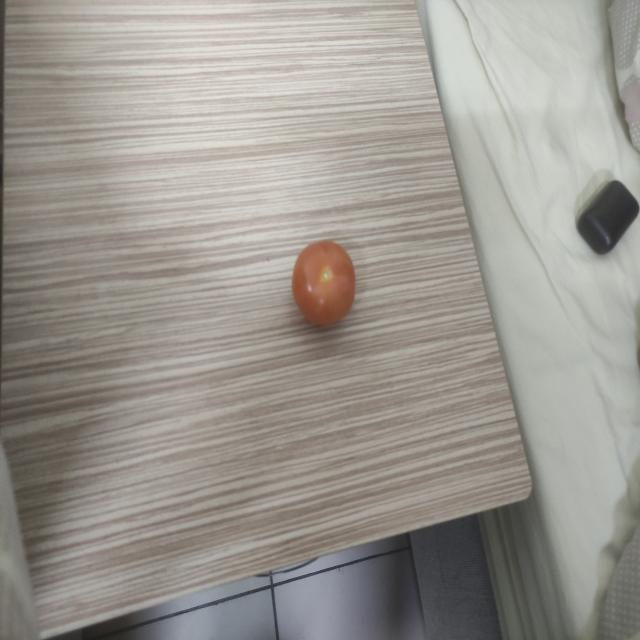sari: (290, 223, 358, 334)
